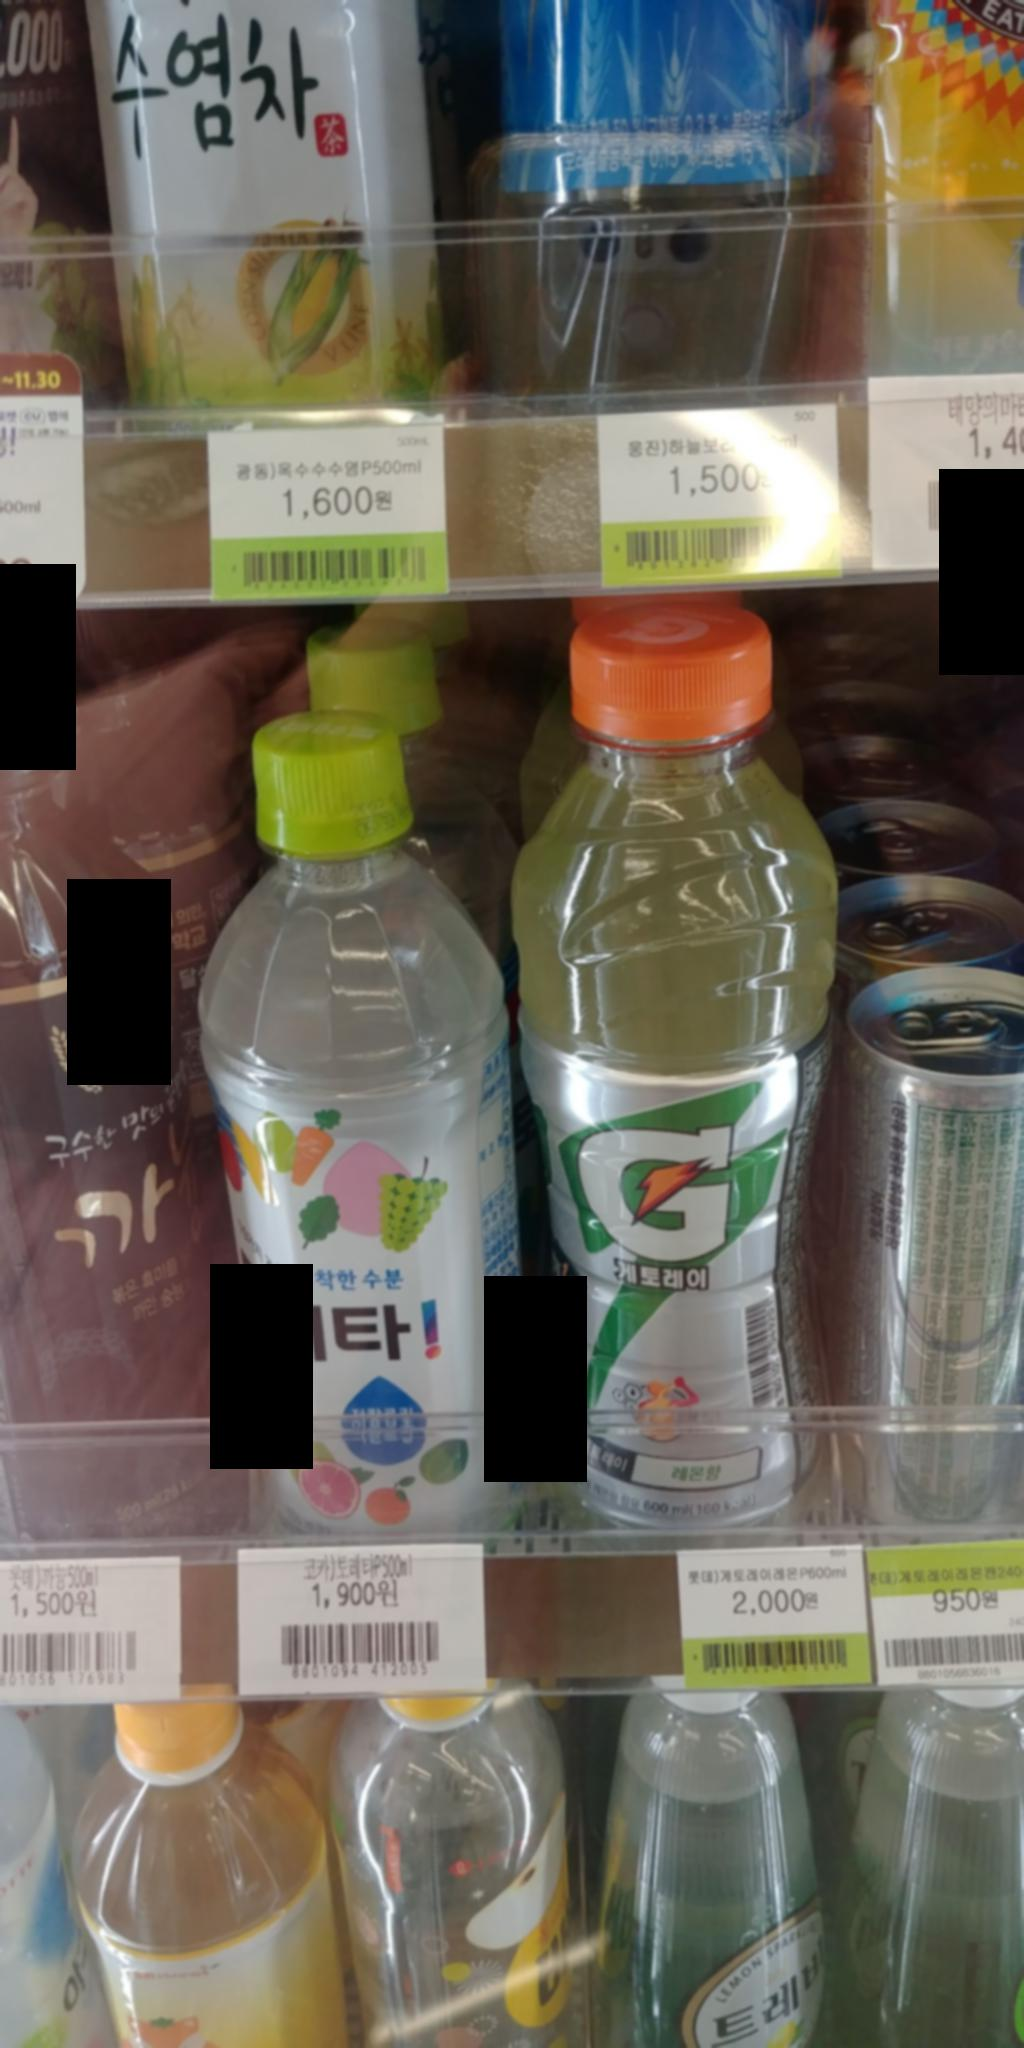gatorade_lemon: (478, 581, 863, 1545)
toreta: (168, 677, 554, 1540)
